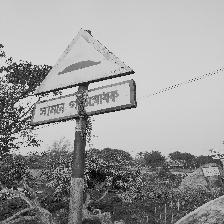Speed-breaker: (32, 28, 137, 125)
